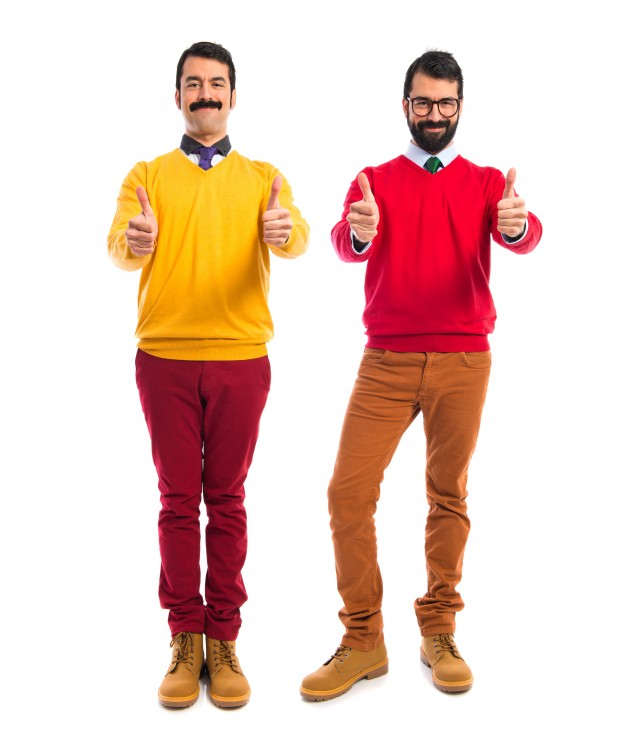thumbsup: (346, 172, 378, 243), (125, 187, 156, 256), (263, 175, 292, 246), (497, 167, 527, 235)
